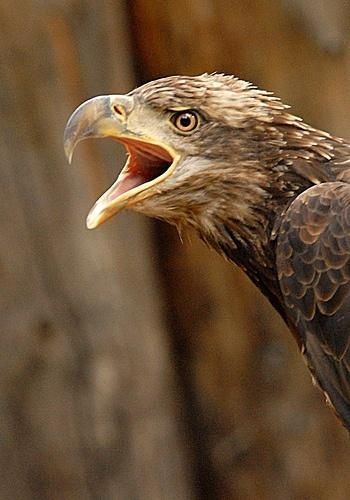bird: (61, 69, 350, 433)
